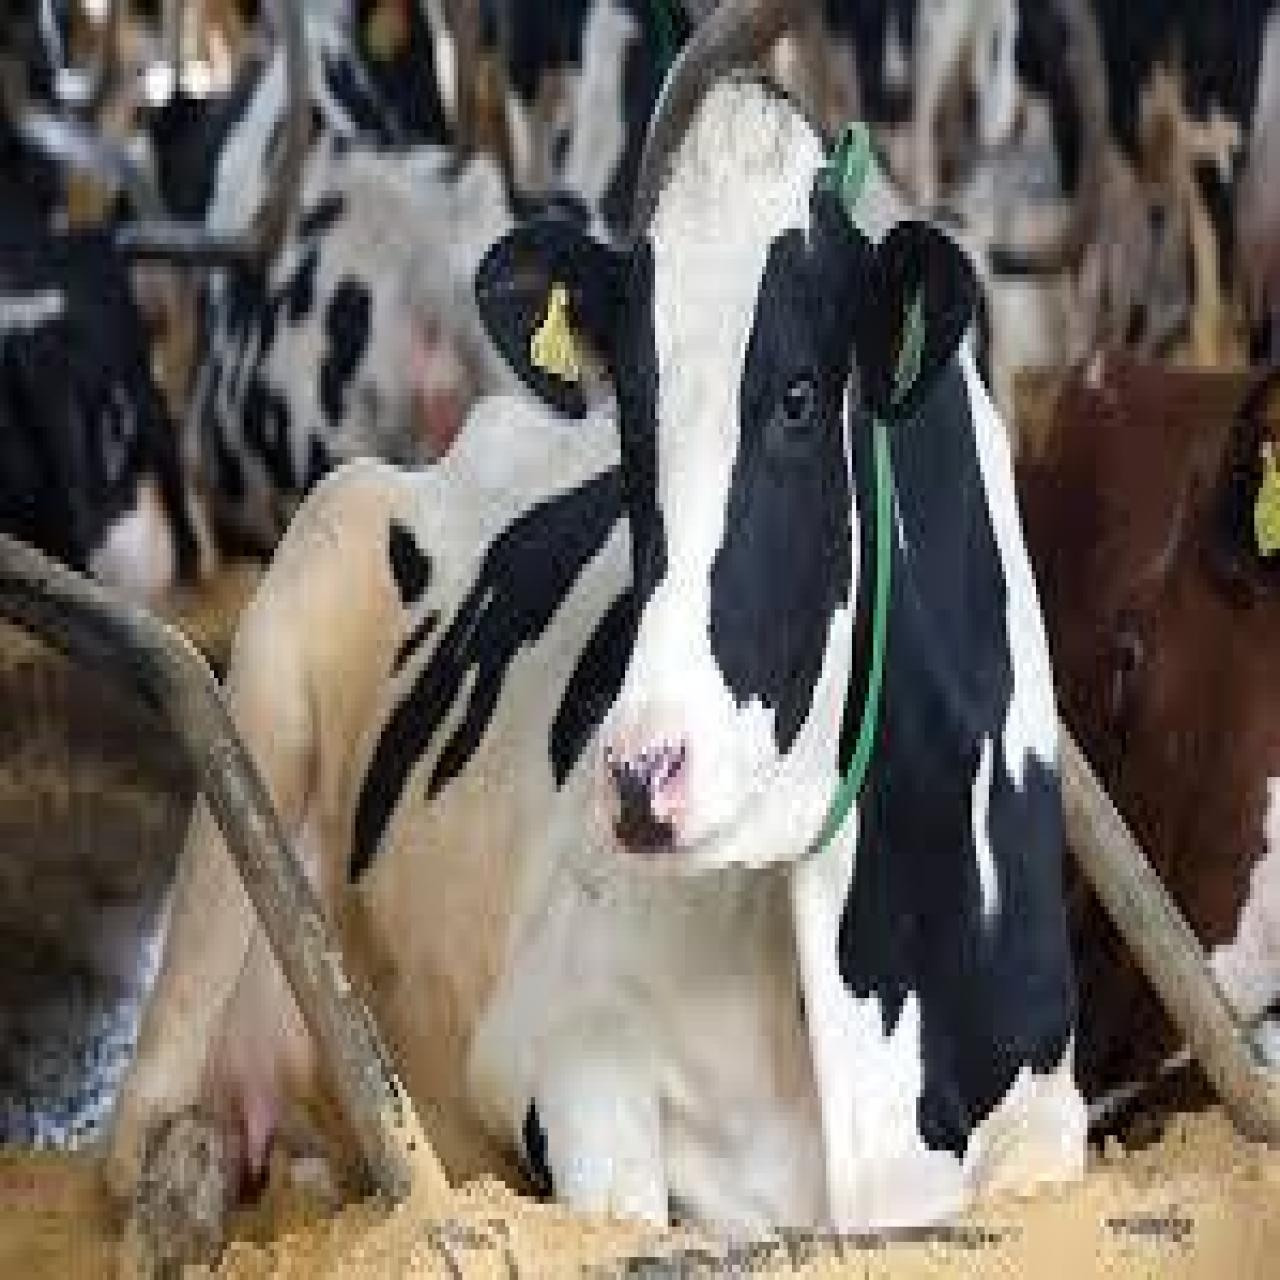cow: (100, 68, 1089, 1280), (1006, 335, 1280, 1121), (202, 8, 599, 518)
